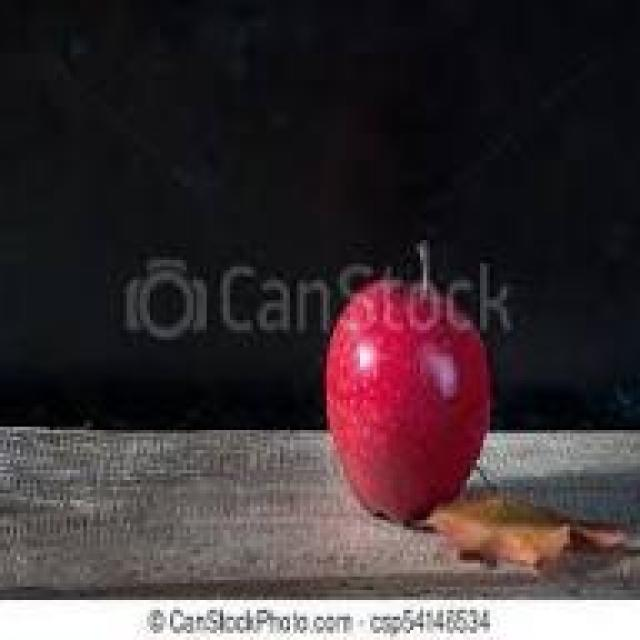apple: (327, 280, 483, 530)
